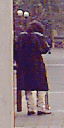person: (18, 20, 54, 114)
